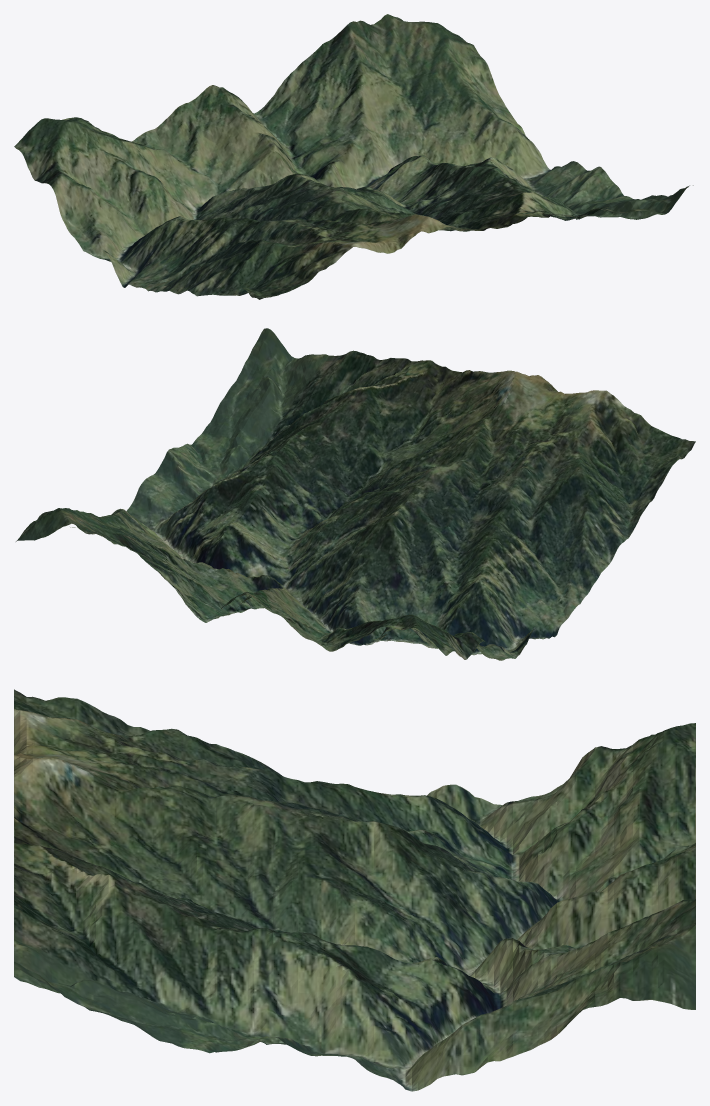
The picture shows the model from 3 angles, top to bottom: view 1: azimuth 30°, elevation 25°; view 2: azimuth 150°, elevation 25°; view 3: azimuth 270°, elevation 25°; orthographic projection. The views are drawn at different scales.
Parts seen in each view (by area): view 1: geometry_0; view 2: geometry_0; view 3: geometry_0.
Part boxes in pixels (bbox=[...]): geometry_0: bbox=[14, 14, 693, 299]; geometry_0: bbox=[16, 328, 695, 660]; geometry_0: bbox=[14, 689, 695, 1091].
Bounding box in the file's own units: 9987 × 2790 × 10010.
Materials: 1 (1 with a texture image).
